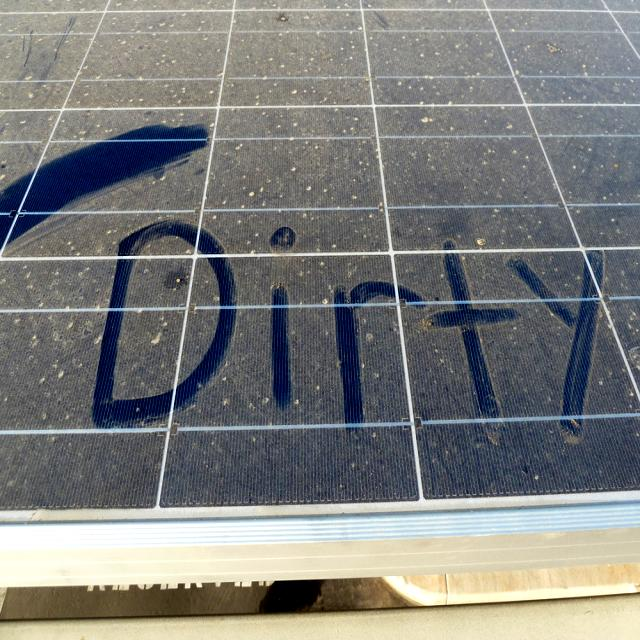dust: (194, 308, 392, 420), (413, 310, 624, 407), (2, 317, 162, 425), (369, 28, 521, 126), (172, 436, 407, 494), (232, 15, 344, 130), (424, 422, 640, 480), (100, 28, 206, 134), (4, 438, 158, 507), (216, 151, 374, 213), (546, 23, 636, 128), (50, 141, 203, 200), (386, 148, 530, 200), (4, 222, 194, 261), (198, 264, 374, 304), (399, 256, 579, 290), (8, 262, 190, 295), (4, 23, 54, 136), (565, 141, 640, 197)
